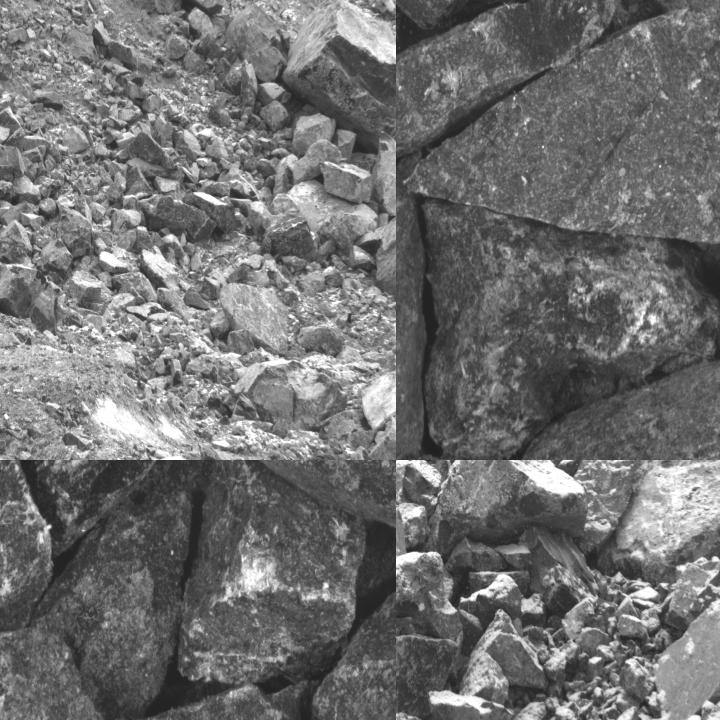stone: (419, 201, 719, 459), (401, 12, 719, 244), (179, 460, 365, 682), (30, 491, 191, 719), (396, 0, 622, 162), (509, 357, 719, 459), (280, 0, 395, 150), (0, 615, 149, 719), (433, 460, 585, 552), (601, 460, 719, 577), (23, 460, 161, 554), (103, 677, 354, 719), (0, 460, 52, 662), (396, 149, 429, 459), (653, 596, 719, 720), (396, 551, 471, 644), (522, 527, 600, 607), (471, 612, 548, 692), (396, 631, 461, 718), (580, 460, 635, 559), (218, 282, 289, 357), (0, 260, 62, 335), (230, 3, 284, 88), (141, 193, 216, 241), (427, 689, 519, 719), (361, 368, 395, 445), (262, 209, 313, 258), (446, 536, 506, 577), (321, 160, 374, 204), (462, 653, 509, 702), (292, 140, 344, 184), (374, 193, 395, 297), (293, 106, 337, 154), (692, 536, 719, 614), (183, 192, 234, 233), (372, 130, 395, 219), (126, 132, 174, 170), (402, 460, 446, 501), (56, 206, 92, 256), (618, 653, 653, 704), (396, 498, 432, 546), (298, 324, 343, 357), (112, 272, 158, 303), (63, 26, 98, 63), (39, 238, 74, 274), (145, 0, 225, 14), (240, 59, 258, 121), (369, 417, 395, 459), (259, 100, 291, 134), (0, 220, 32, 253), (126, 163, 154, 199), (29, 80, 63, 109), (0, 244, 39, 269), (108, 40, 139, 69), (560, 460, 625, 473), (258, 82, 291, 107), (62, 125, 90, 154), (187, 8, 214, 38), (128, 0, 182, 14), (0, 145, 26, 174), (164, 36, 189, 60), (0, 118, 12, 152), (372, 0, 395, 16)
